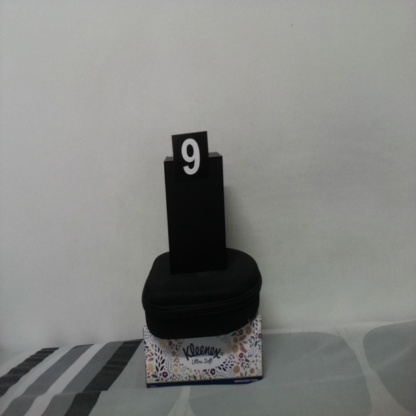id_9: (172, 135, 209, 189)
